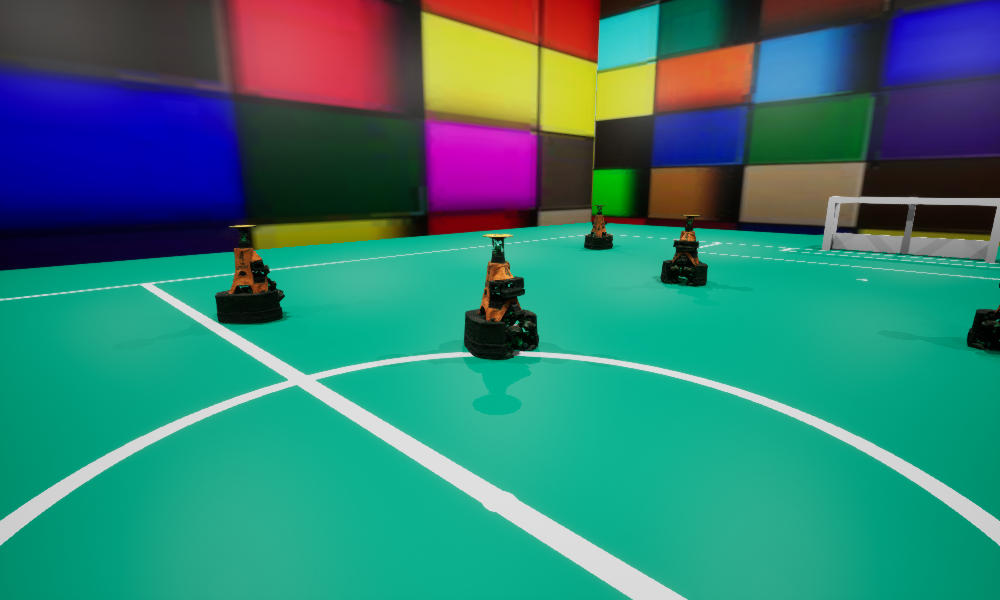0 orange robot TechUnited: (464, 234, 538, 359), (215, 225, 284, 323), (660, 215, 707, 285), (967, 283, 999, 350), (584, 205, 612, 249)
